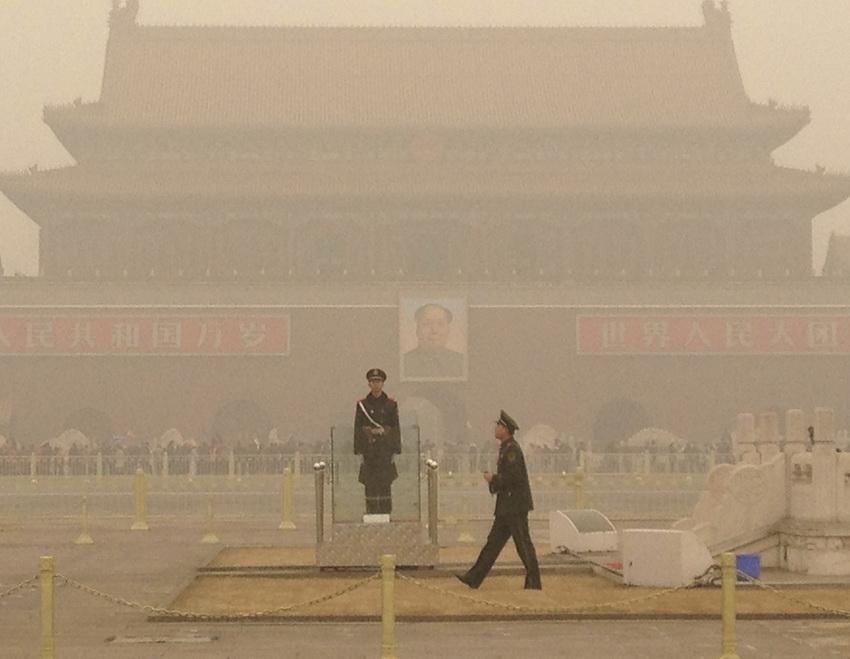person: (453, 409, 543, 590), (353, 368, 402, 515)
